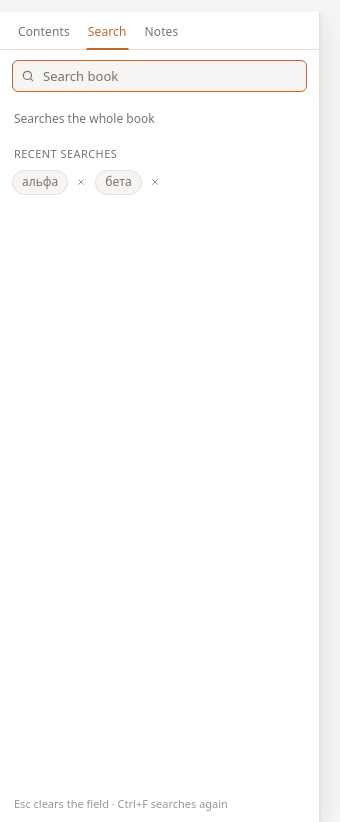
SearchPanel › keeps up to 6 recent searches and refills the input from a chip
Expected: the text "Recent searches" is shown, x1=14 y1=146 x2=117 y2=161
Click the button "альфа". click: (40, 182)
box: x1=12 y1=170 x2=68 y2=194
Wait 150 ms
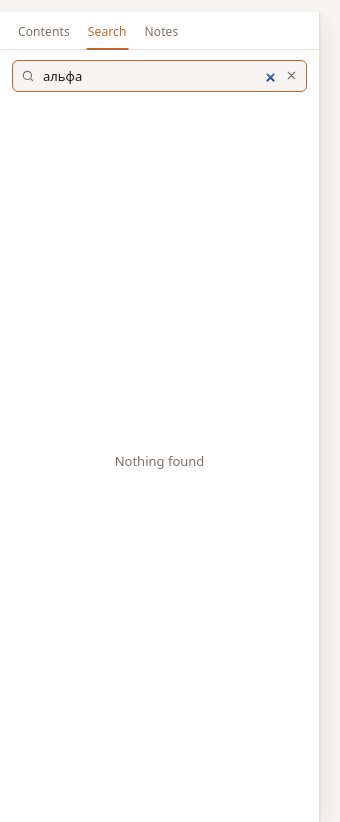
Expected: the search field with placeholder "Search book" holds "альфа", x1=12 y1=60 x2=307 y2=92
